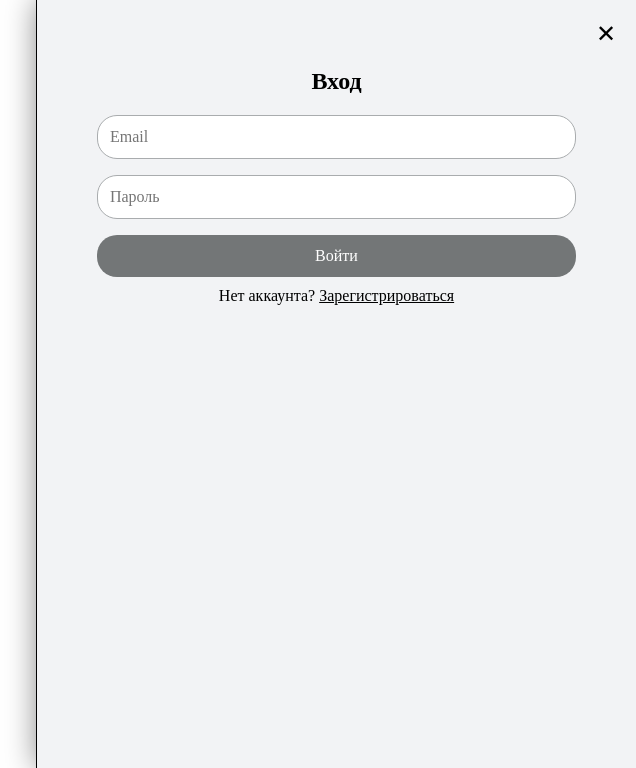
Test: LoginModal › shows validation error for invalid email format
Type "invalid-email" into the field with placeholder "Email" at (336, 137), box x1=97 y1=115 x2=576 y2=159
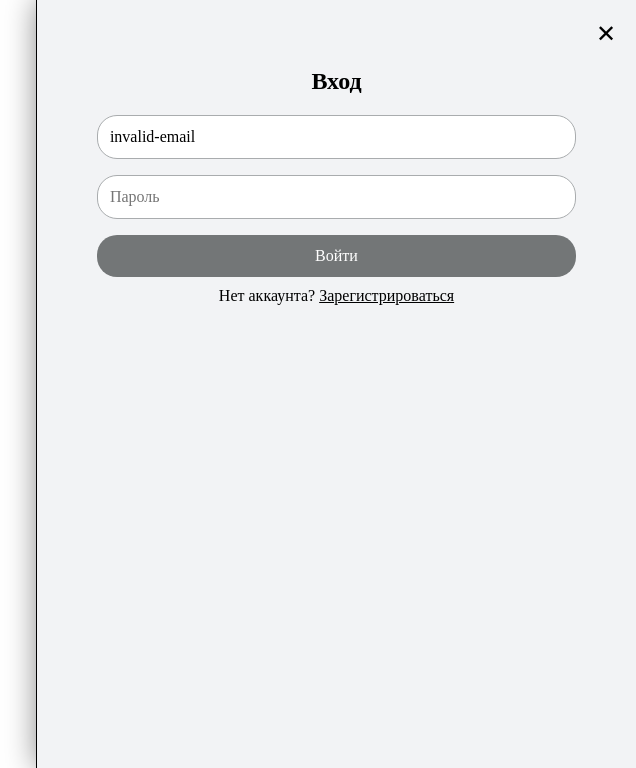
expect the form with placeholder "Email" is shown: met, box x1=97 y1=115 x2=576 y2=277
Click the button "Войти" at (336, 256), box x1=97 y1=235 x2=576 y2=277
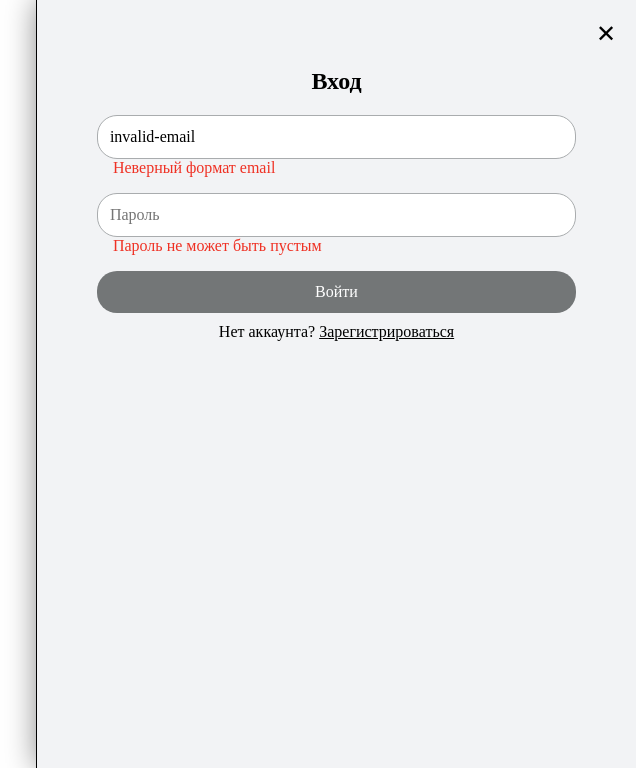
expect the text "Неверный формат email" is shown: met, box x1=113 y1=159 x2=275 y2=176
